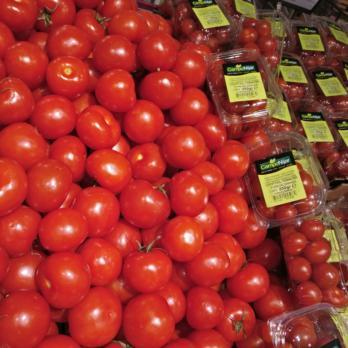Tomato: (0, 4, 197, 345), (184, 115, 277, 348)
